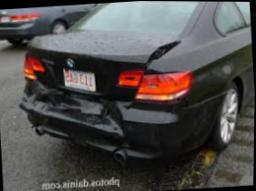Bumper: (21, 81, 219, 165)
Dickey: (25, 29, 181, 103)
